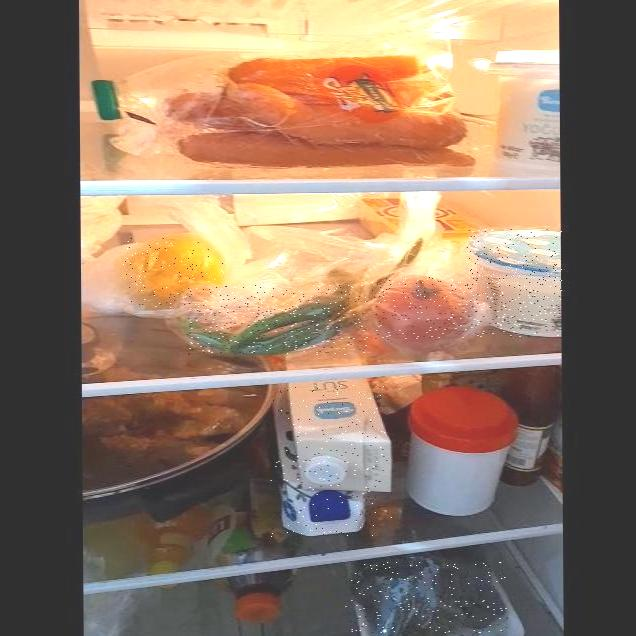broccoli: (345, 562, 507, 633)
carrot: (168, 57, 466, 163)
green chilies: (186, 285, 368, 355)
lemon: (123, 238, 225, 308)
milk: (270, 385, 392, 537)
tomato: (372, 277, 468, 340)
yoghurt: (466, 229, 562, 337), (482, 60, 560, 160)
